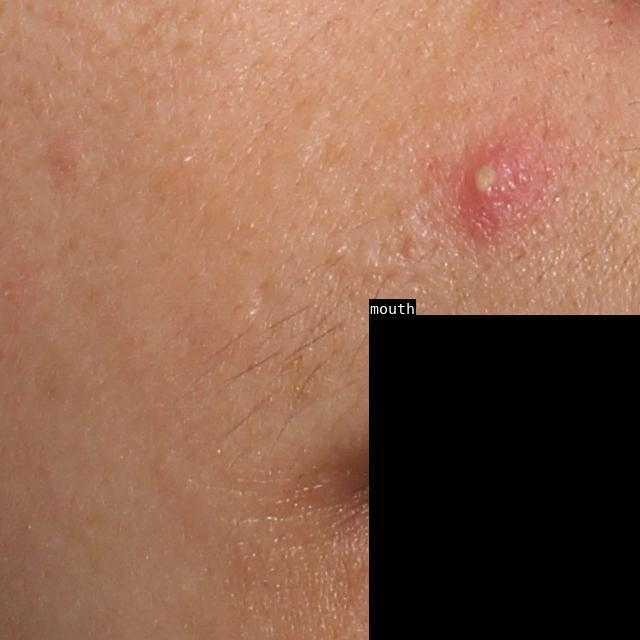atrophic_scar: (397, 226, 417, 262)
papule: (47, 145, 81, 179)
pustule: (454, 131, 544, 233)
